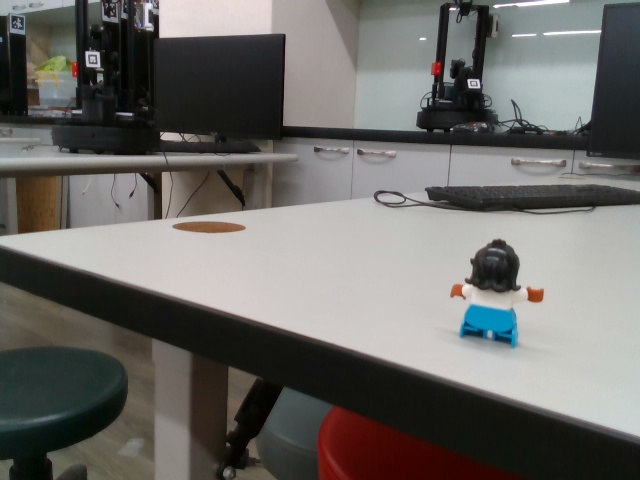people: (447, 237, 547, 348)
